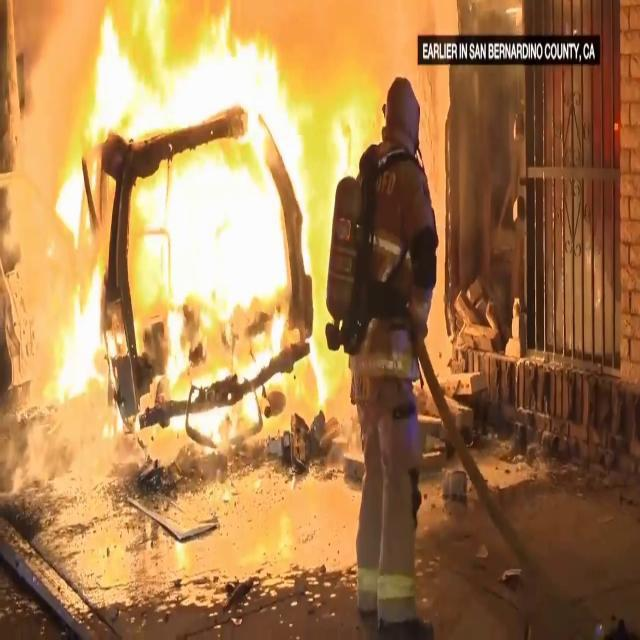Fire: (34, 1, 317, 432)
